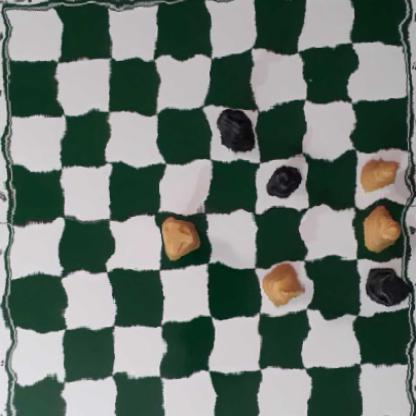black-king: (209, 103, 257, 160)
black-pawn: (266, 162, 303, 202)
black-rook: (364, 259, 410, 310)
white-bishop: (361, 208, 404, 254)
white-king: (258, 260, 302, 305)
white-pawn: (358, 156, 401, 195)
white-rook: (156, 215, 197, 261)
